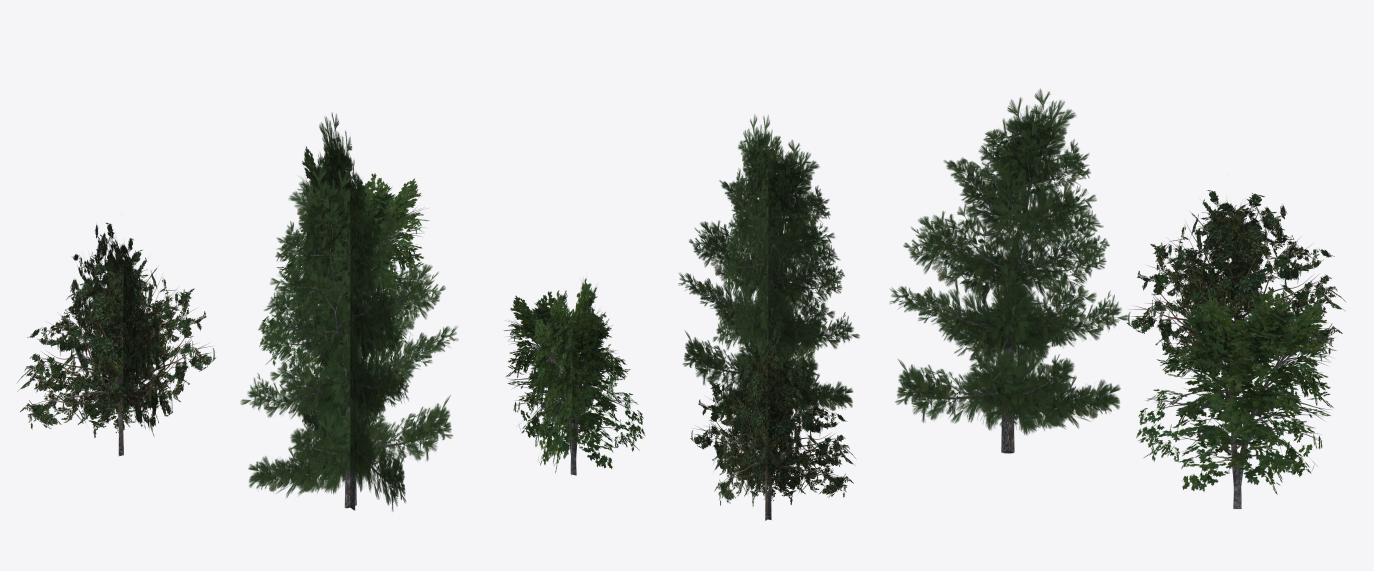
Rendered from lodbillboard_summer_trees_pack.glb.
The picture shows the model from 3 angles, left to right: view 1: azimuth 30°, elevation 25°; view 2: azimuth 150°, elevation 25°; view 3: azimuth 270°, elevation 25°; orthographic projection. The views are drawn at different scales.
Visible parts, largest first — view 1: PineBillboard, Crabapple, MapleFall; view 2: PineBillboard, MapleFall, Crabapple; view 3: PineBillboard, MapleFall, Crabapple.
Part boxes in pixels (left/top/right/bottom): PineBillboard: left=240, top=113, right=458, bottom=511; Crabapple: left=16, top=222, right=215, bottom=456; MapleFall: left=259, top=146, right=429, bottom=383; PineBillboard: left=678, top=115, right=859, bottom=416; MapleFall: left=503, top=278, right=644, bottom=475; Crabapple: left=690, top=326, right=856, bottom=520; PineBillboard: left=889, top=88, right=1129, bottom=453; MapleFall: left=1136, top=287, right=1336, bottom=508; Crabapple: left=1127, top=190, right=1345, bottom=398.
Size of the model in its own units: 23.83 by 23.3 by 23.12.
Materials: 3 (3 with a texture image).
